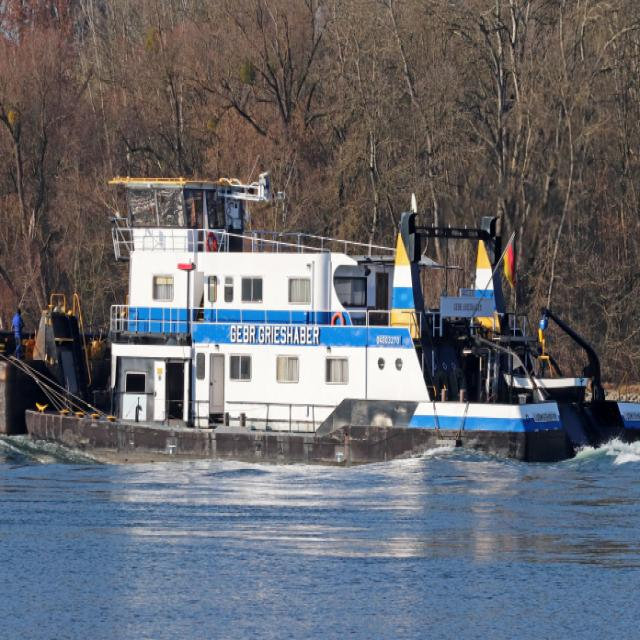tugboat: (16, 166, 640, 481)
